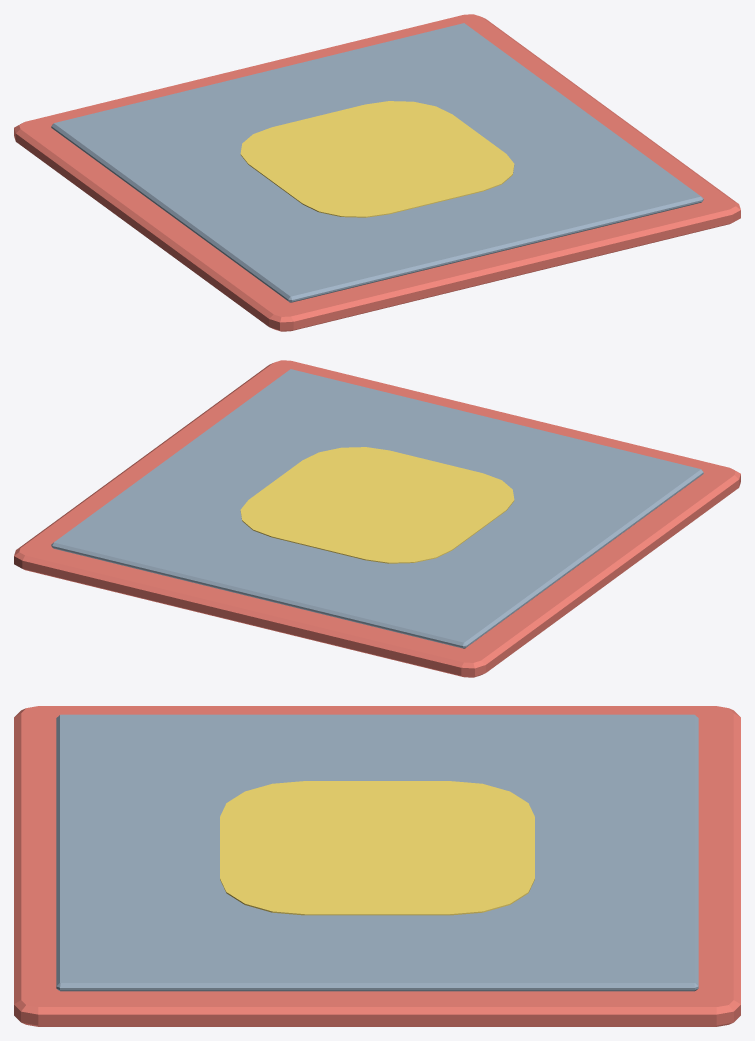
File: nursery-and-primary-classroom-carpet-mat-tile-c84666ac__34993.glb
The picture shows the model from 3 angles, top to bottom: view 1: azimuth 30°, elevation 25°; view 2: azimuth 150°, elevation 25°; view 3: azimuth 270°, elevation 25°; orthographic projection. The views are drawn at different scales.
Parts seen in each view (by area): view 1: carpet-mat-tile; view 2: carpet-mat-tile; view 3: carpet-mat-tile.
Boxes of the visible parts, left/top/right/bottom form: carpet-mat-tile: left=14, top=14, right=740, bottom=331; carpet-mat-tile: left=14, top=360, right=740, bottom=677; carpet-mat-tile: left=14, top=706, right=740, bottom=1026.
Bounding box in the file's own units: 0.6 × 0.0262 × 0.6.
